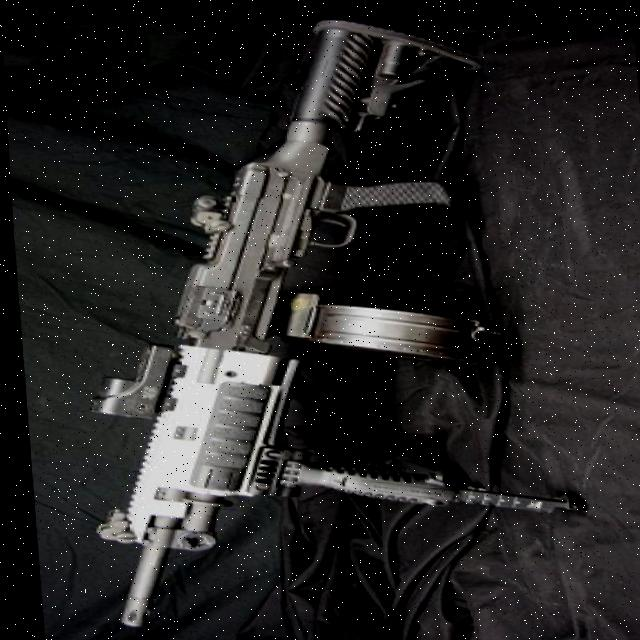firearm: (44, 2, 596, 640)
